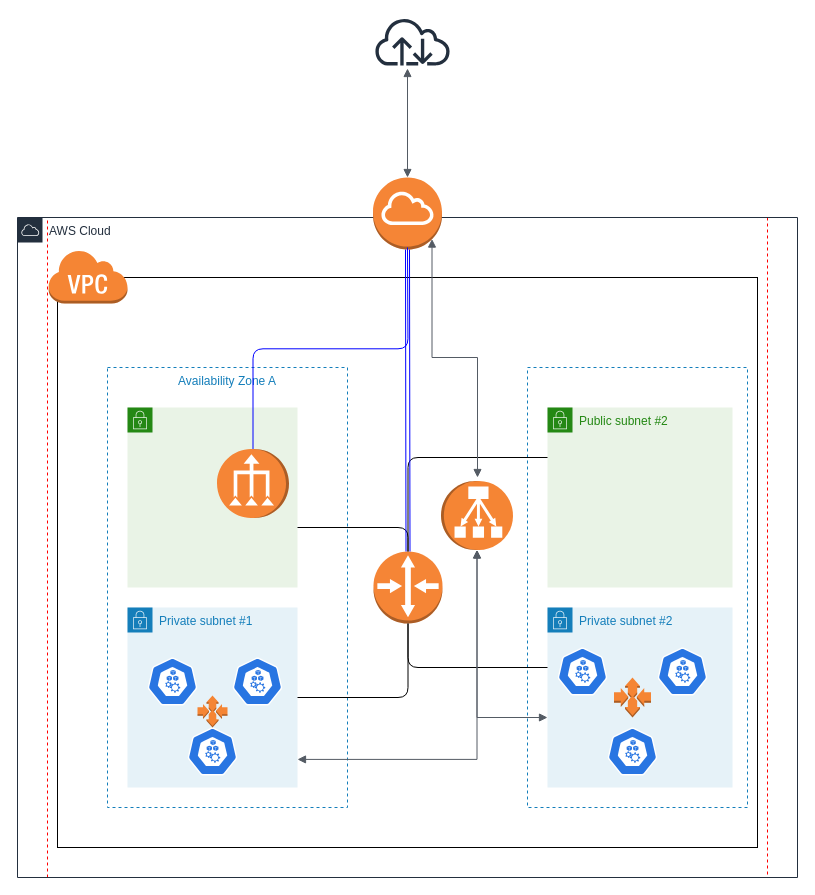
Image size: 815x895. Some labels were removed from this diagram. Here are the shapes that lost their labels. From the top down, the box of each, then its label:
(126, 406, 298, 588): Public subnet #1
(526, 366, 748, 808): Availability Zone B
